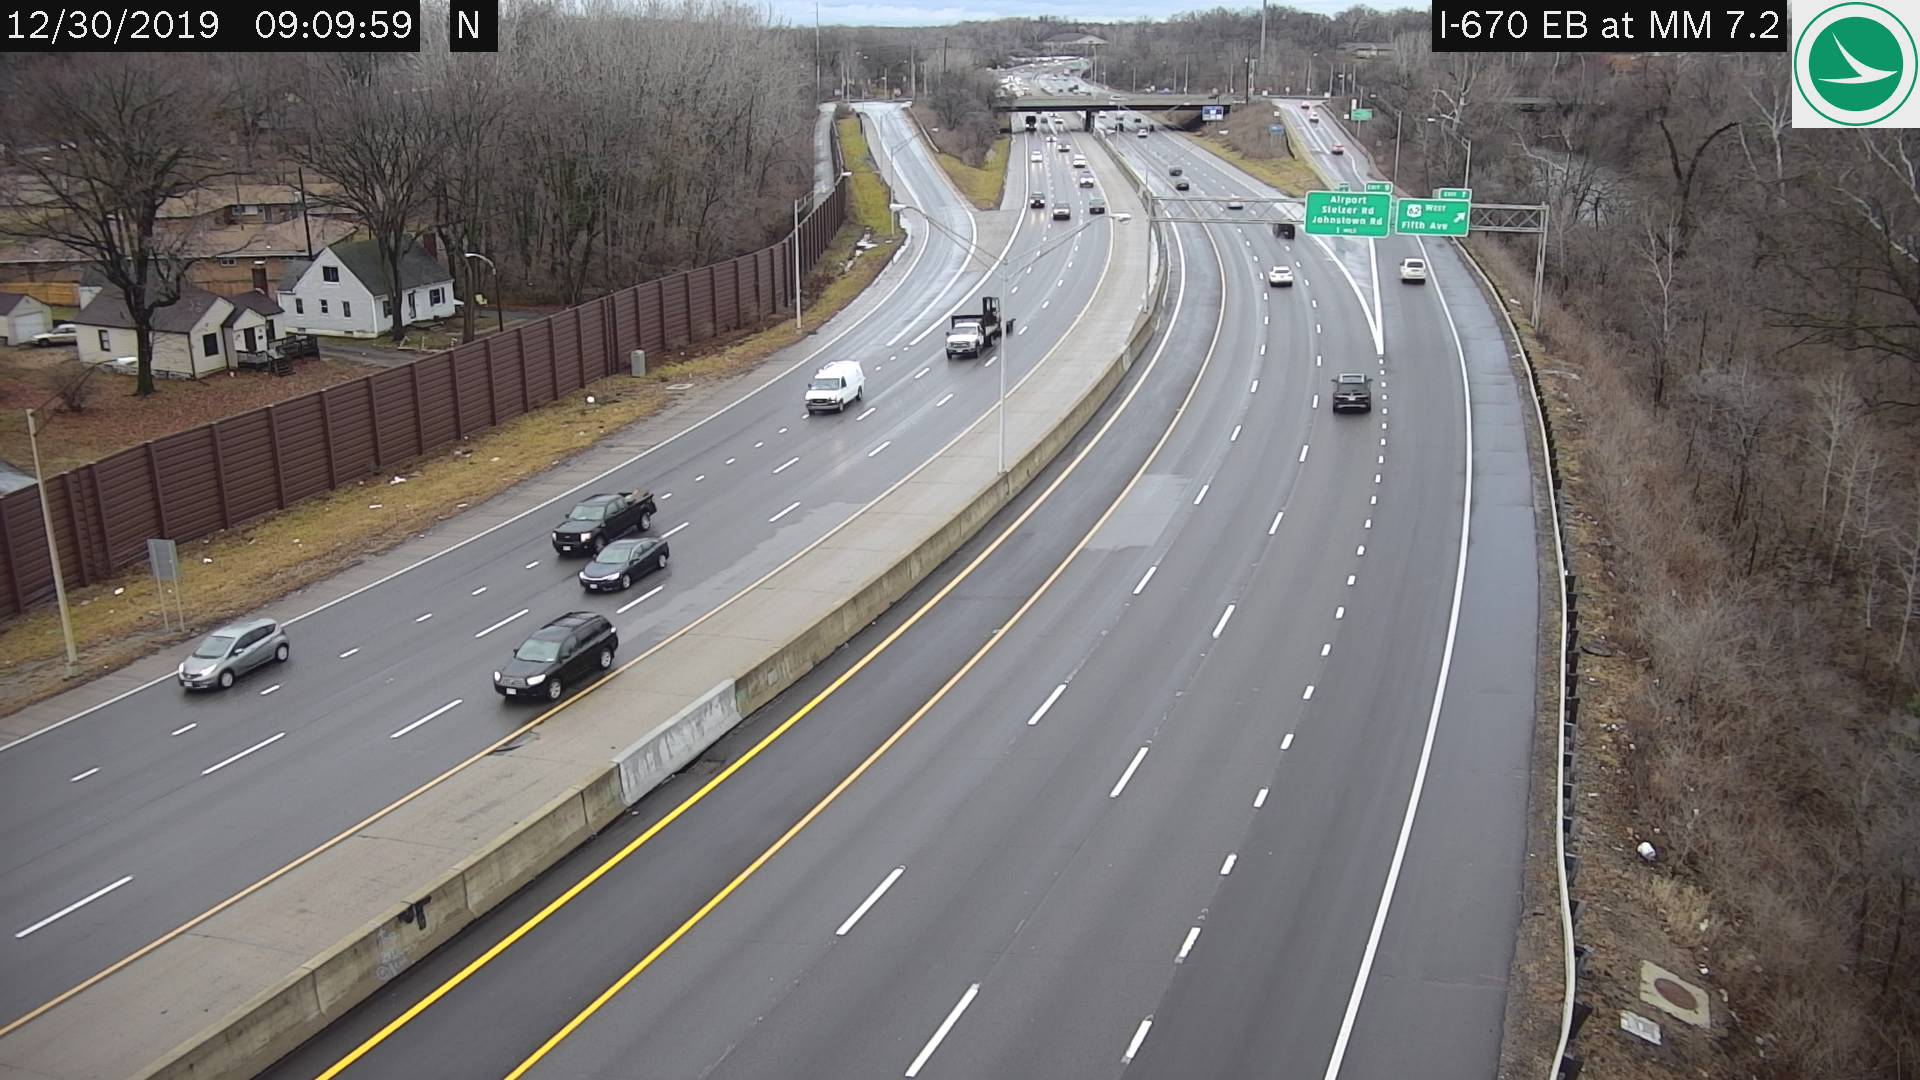car: (495, 612, 618, 704), (174, 616, 290, 696), (554, 492, 654, 564), (582, 541, 666, 592), (802, 356, 866, 415), (945, 309, 1014, 360), (1335, 372, 1374, 407), (1398, 256, 1425, 284), (1266, 264, 1290, 284), (1273, 220, 1294, 240), (1052, 202, 1069, 220), (1027, 191, 1043, 211), (1077, 171, 1095, 189), (1091, 196, 1102, 215)
